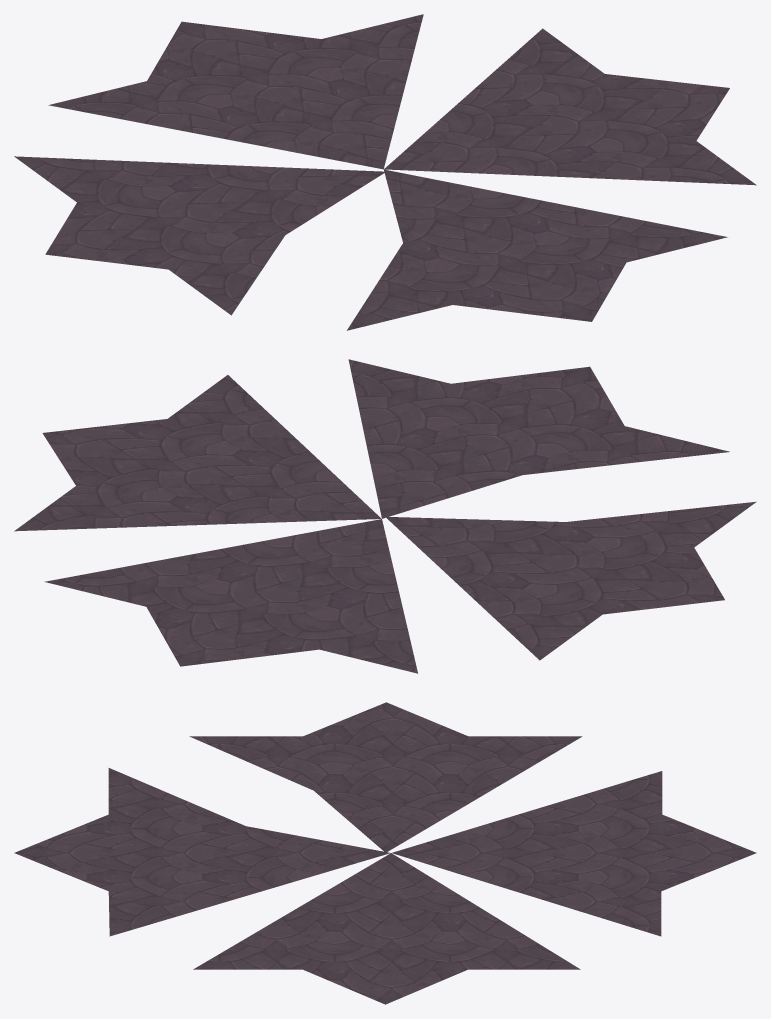
Rendered from SD_xs_dimian04.FBX.
3 views of the same model, one above another, from view 1: azimuth 30°, elevation 25°; view 2: azimuth 150°, elevation 25°; view 3: azimuth 270°, elevation 25° (orthographic). The views are drawn at different scales.
Parts seen in each view (by area): view 1: SD_xs_dimian04; view 2: SD_xs_dimian04; view 3: SD_xs_dimian04.
Part boxes in pixels (x1,y1,x2,y2): SD_xs_dimian04: [14, 14, 756, 330]; SD_xs_dimian04: [14, 359, 756, 673]; SD_xs_dimian04: [14, 702, 756, 1004].
Size of the model in its own units: 734 by 1.53e-05 by 762.
Materials: 1 (1 with a texture image).
